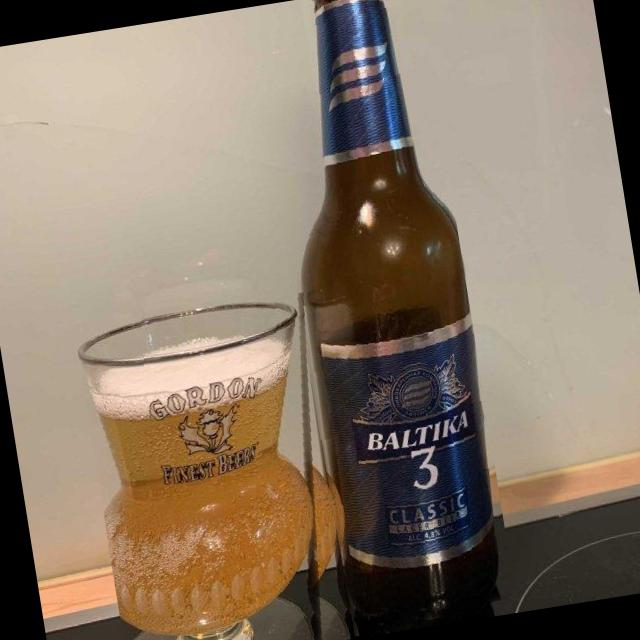Glass: (246, 0, 518, 637), (74, 292, 358, 640)
